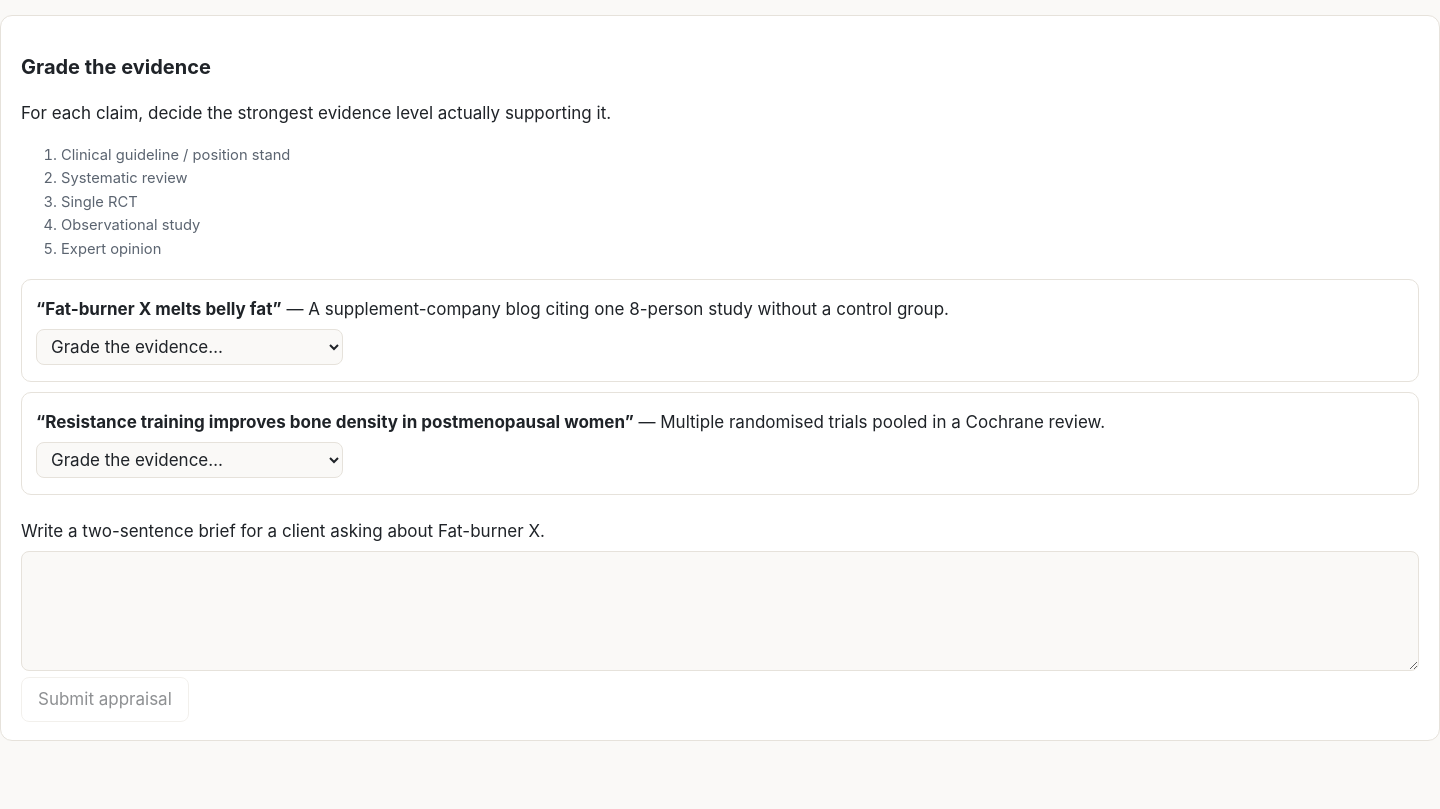
Test: EvidenceAppraisal › requires every claim graded and a brief before submit, then grades level picks
Expected: the button "Submit appraisal" is disabled, top-left (21, 677), bottom-right (189, 722)
Select "Single RCT" in the dropdown labelled "Fat-burner X melts". click: (190, 347)
box: top-left (36, 329), bottom-right (343, 365)
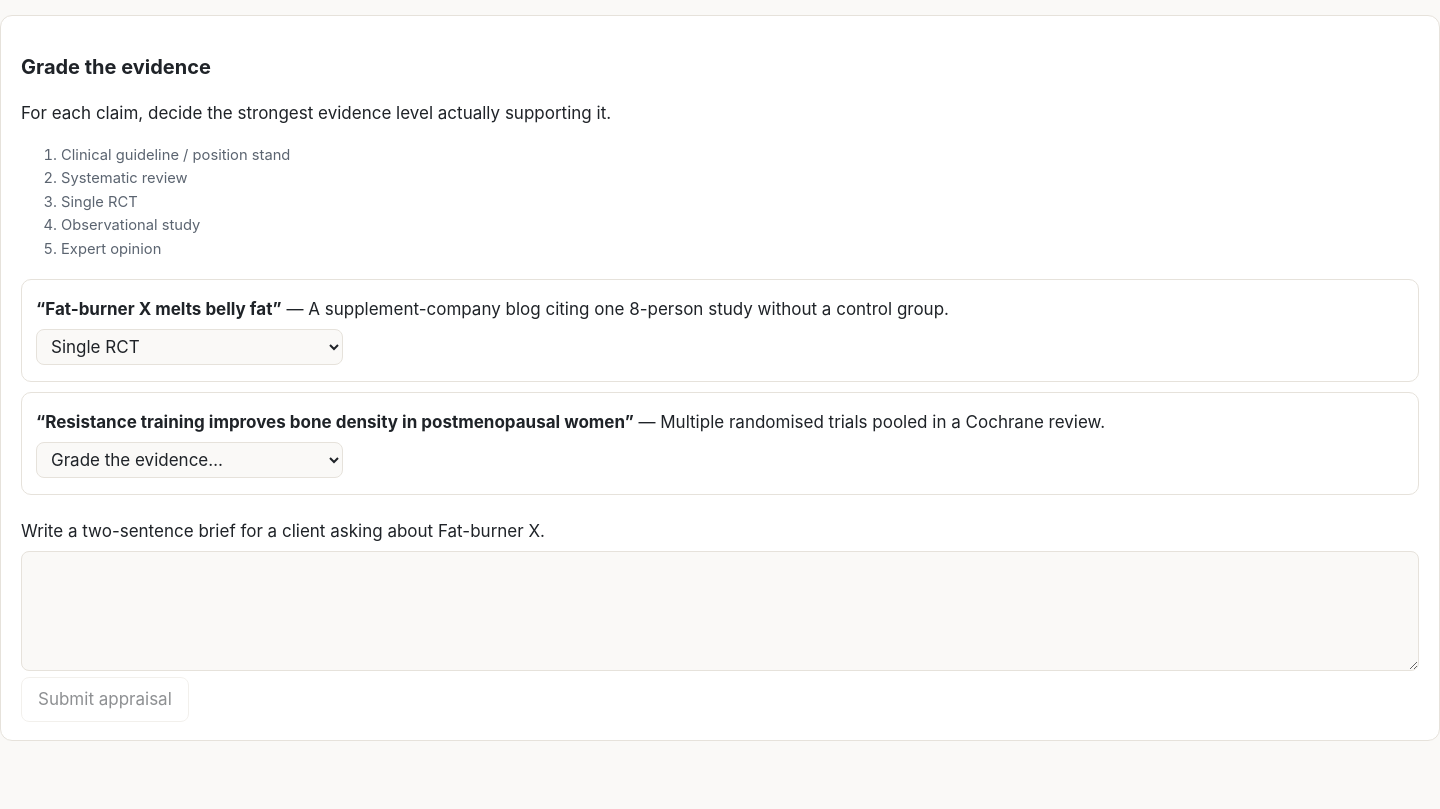
Select "Systematic review" in the dropdown labelled "bone density". click: (190, 460)
box: top-left (36, 442), bottom-right (343, 478)
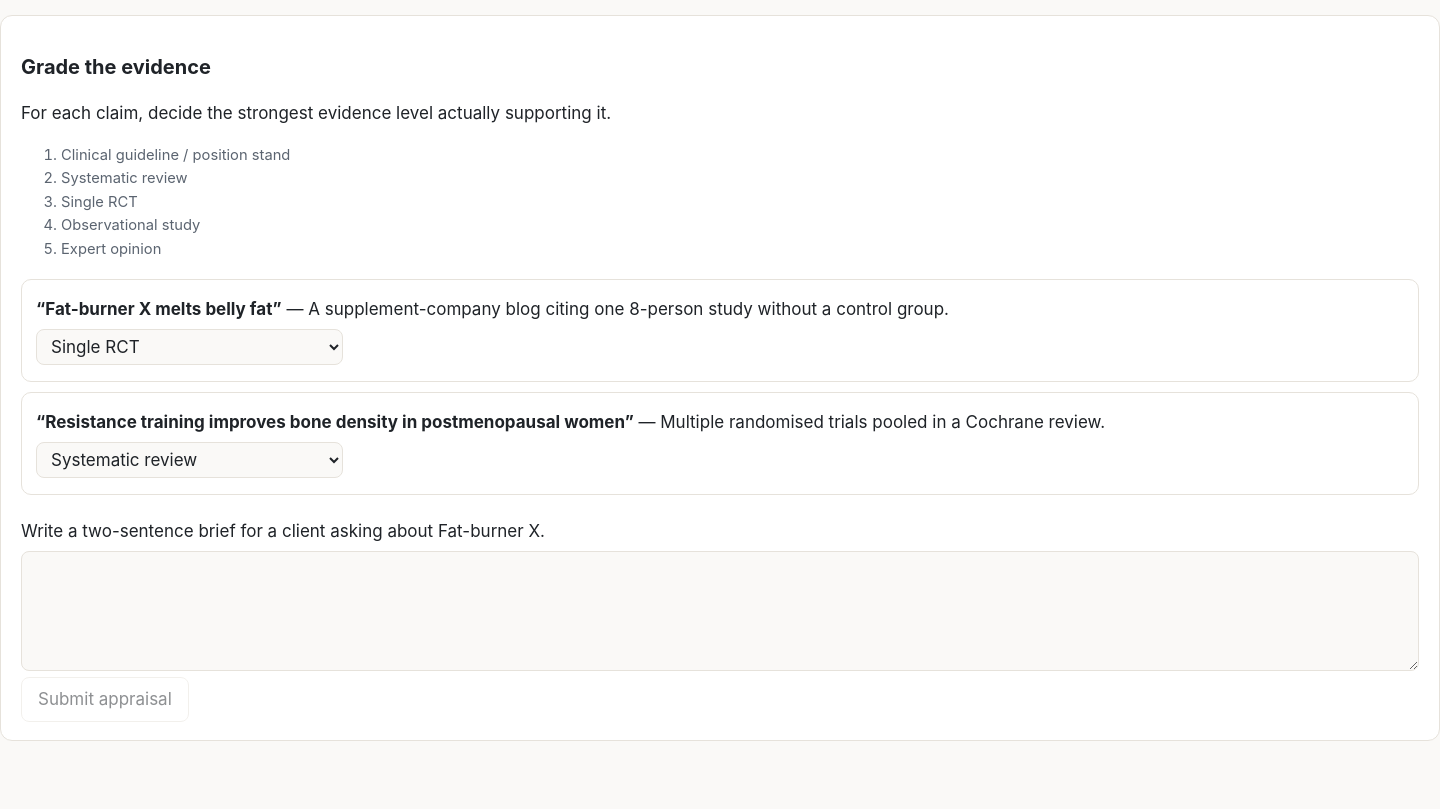
Expected: the button "Submit appraisal" is disabled, top-left (21, 677), bottom-right (189, 722)
Type "My brief." into the text box labelled "Write a two-sentence brief". click: (720, 611)
box: top-left (21, 551), bottom-right (1419, 671)
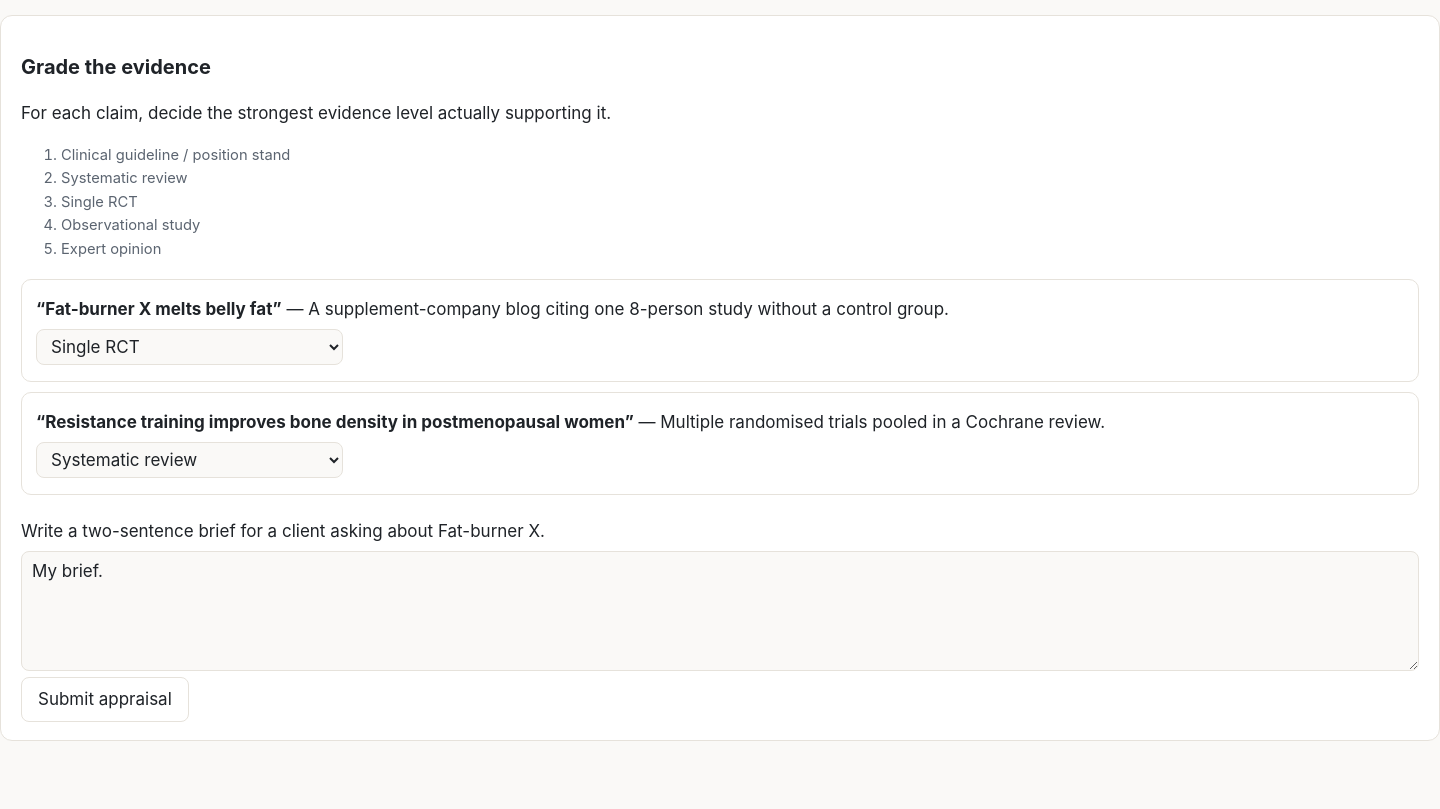
Expected: the button "Submit appraisal" is enabled
Click the button "Submit appraisal". click: (105, 700)
box: top-left (21, 677), bottom-right (189, 722)
(page scrolled)
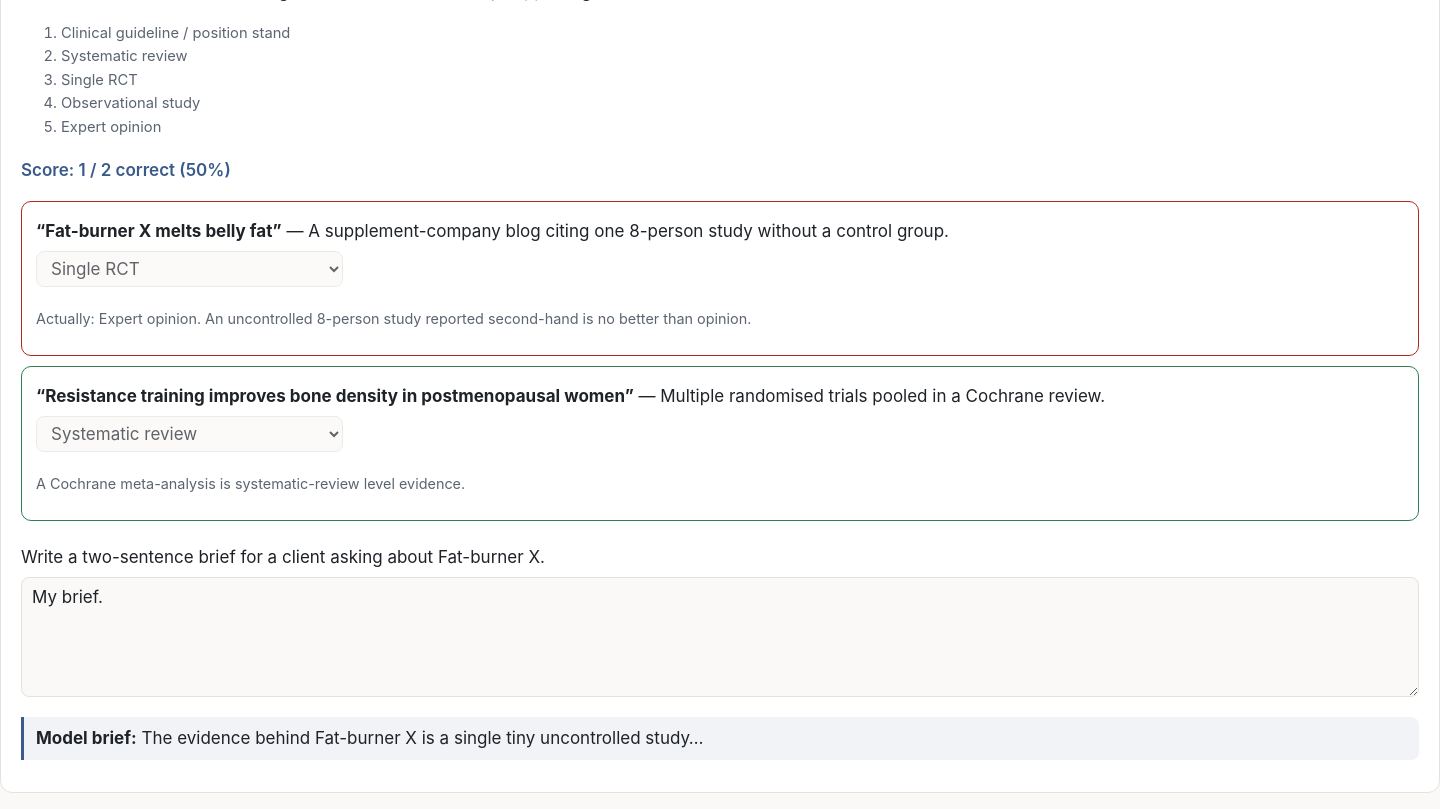
Expected: the text "Score: 1 / 2 correct (50%)" is shown, top-left (21, 160), bottom-right (231, 180)
Expected: the text "no better than opinion" is shown, top-left (36, 310), bottom-right (751, 327)
Expected: the text "The evidence behind Fat-burner X" is shown, top-left (141, 728), bottom-right (703, 748)
